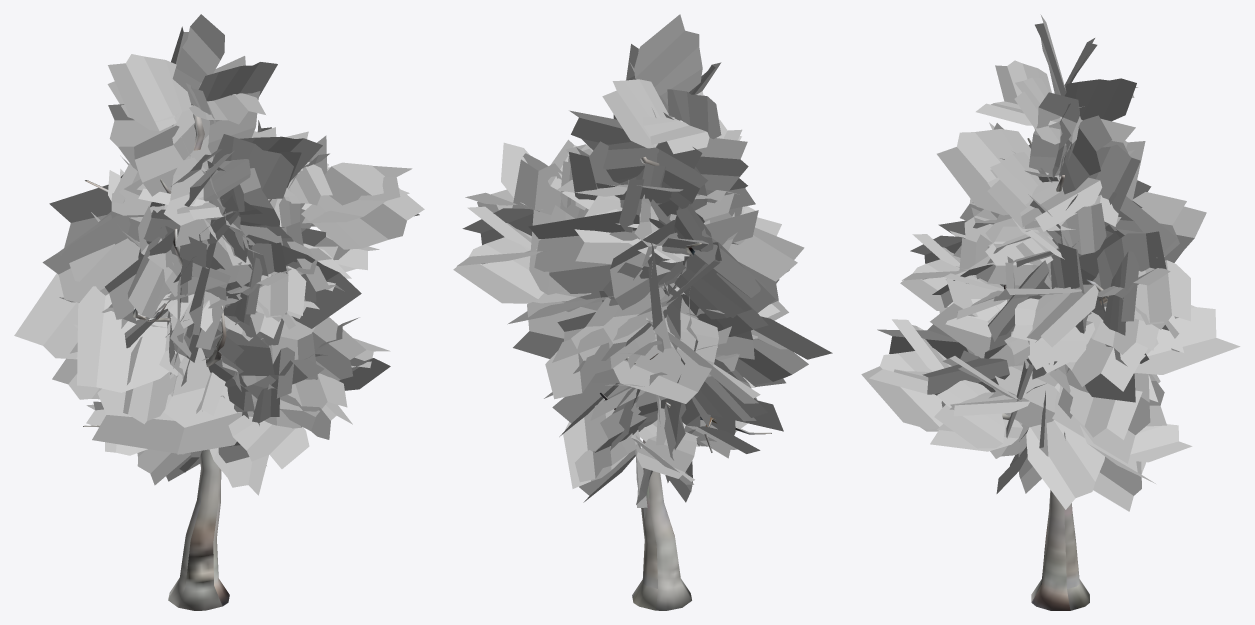
The model's file is drzewojesen79 1.fbx.
3 views of the same model, side by side, from view 1: azimuth 30°, elevation 25°; view 2: azimuth 150°, elevation 25°; view 3: azimuth 270°, elevation 25° (orthographic). The views are drawn at different scales.
Visible parts, largest first — view 1: Cube, Plane.101, Plane.167, Plane.003, Plane.070, Plane.073, Plane.163, Plane.132, Plane.147, Plane.004, Plane.182, Plane.137 (+52 smaller); view 2: Cube, Plane.136, Plane.104, Plane.004, Plane.201, Plane.064, Plane.129, Plane.001, Plane.161, Plane.165, Plane.089, Plane.097 (+47 smaller); view 3: Cube, Plane.209, Plane.182, Plane.129, Plane.148, Plane.085, Plane.067, Plane.137, Plane.166, Plane.133, Plane.179, Plane.140 (+49 smaller).
Boxes of the visible parts, left/top/right/bottom form: Cube: left=83, top=105, right=271, bottom=610; Plane.101: left=77, top=286, right=171, bottom=392; Plane.167: left=301, top=162, right=424, bottom=249; Plane.003: left=108, top=54, right=192, bottom=131; Plane.070: left=164, top=348, right=242, bottom=454; Plane.073: left=42, top=215, right=143, bottom=302; Plane.163: left=92, top=371, right=185, bottom=454; Plane.132: left=14, top=273, right=78, bottom=359; Plane.147: left=228, top=415, right=309, bottom=468; Plane.004: left=172, top=14, right=224, bottom=91; Plane.182: left=212, top=134, right=293, bottom=198; Plane.137: left=246, top=234, right=361, bottom=328; Cube: left=600, top=141, right=771, bottom=610; Plane.136: left=528, top=211, right=664, bottom=299; Plane.104: left=613, top=312, right=718, bottom=403; Plane.004: left=634, top=14, right=702, bottom=105; Plane.201: left=674, top=244, right=765, bottom=319; Plane.064: left=453, top=237, right=543, bottom=303; Plane.129: left=545, top=325, right=655, bottom=399; Plane.001: left=602, top=79, right=668, bottom=148; Plane.161: left=513, top=297, right=602, bottom=358; Plane.165: left=512, top=159, right=584, bottom=218; Plane.089: left=695, top=138, right=748, bottom=203; Plane.097: left=610, top=220, right=675, bottom=310; Cube: left=1002, top=138, right=1108, bottom=610; Plane.209: left=1026, top=420, right=1104, bottom=509; Plane.182: left=937, top=129, right=1048, bottom=215; Plane.129: left=1134, top=305, right=1240, bottom=374; Plane.148: left=861, top=351, right=942, bottom=429; Plane.085: left=934, top=380, right=1005, bottom=448; Plane.067: left=1134, top=260, right=1190, bottom=329; Plane.137: left=930, top=256, right=1024, bottom=366; Plane.166: left=1026, top=284, right=1098, bottom=347; Plane.133: left=1052, top=364, right=1150, bottom=463; Plane.179: left=1020, top=175, right=1102, bottom=231; Plane.140: left=1066, top=338, right=1147, bottom=391.
Size of the model in its own units: 1419 by 2265 by 1342.
